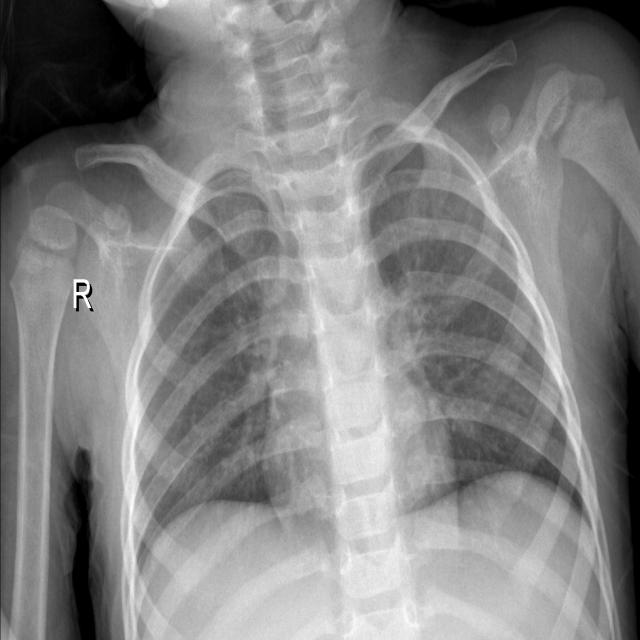normal_lung: (0, 5, 640, 640)
